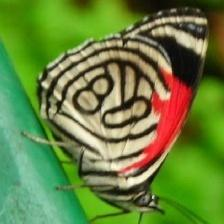butterfly: (39, 9, 209, 212)
